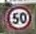limite 50: (5, 4, 33, 30)
